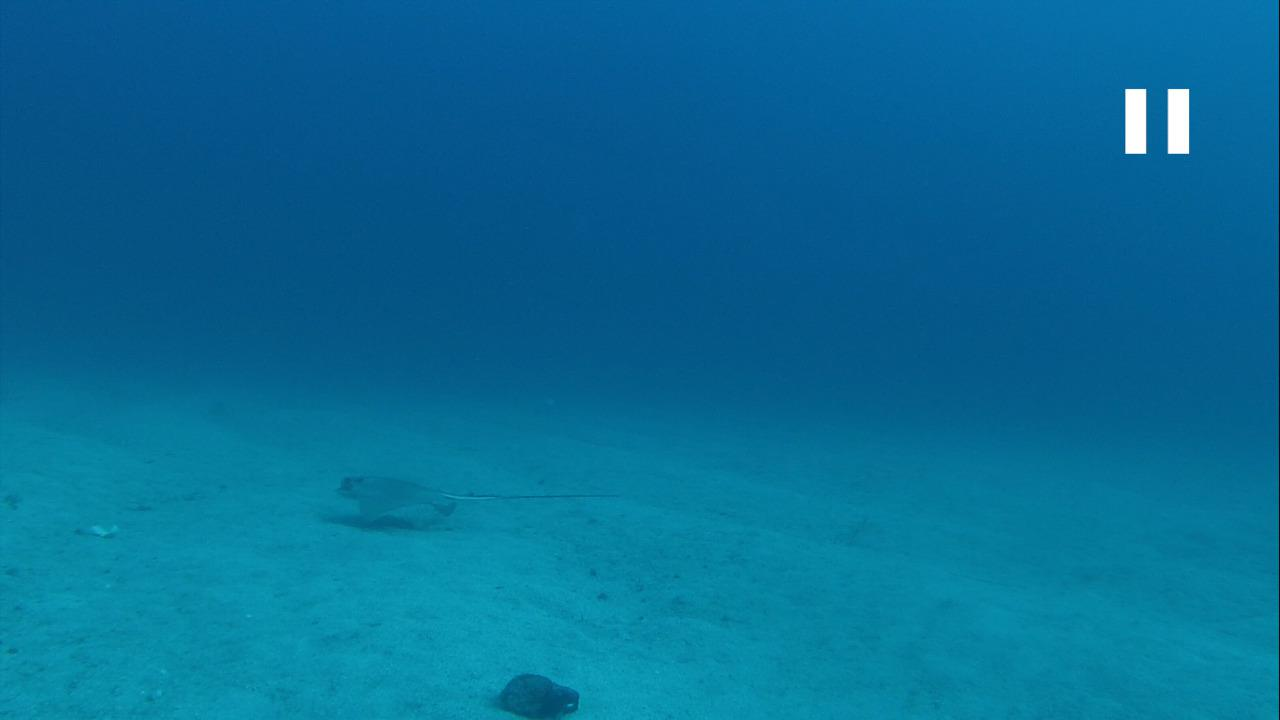myliobatis: (328, 467, 628, 534)
